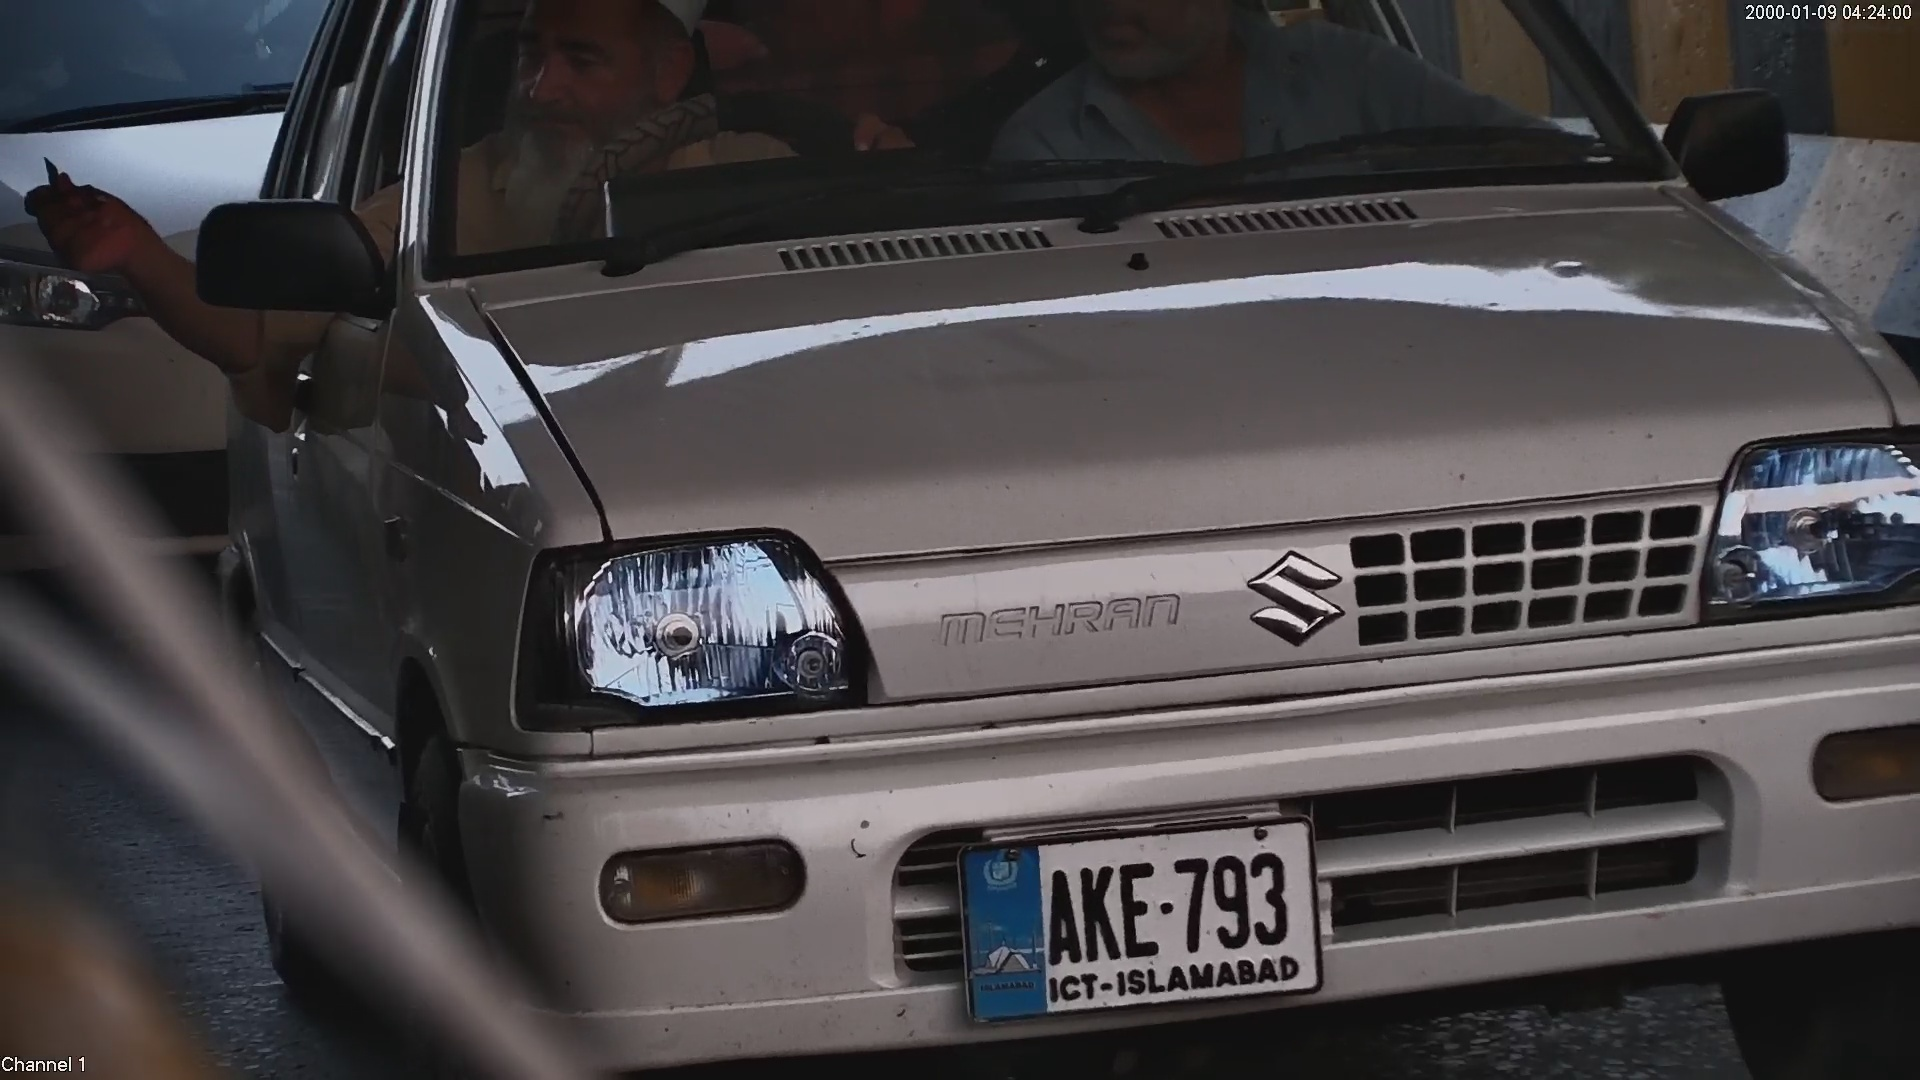Number_Plate: (958, 818, 1332, 1009)
Undefined: (563, 544, 837, 714), (1726, 438, 1904, 601), (582, 836, 815, 925), (928, 592, 1187, 638), (1804, 707, 1920, 806), (1237, 544, 1337, 649)
